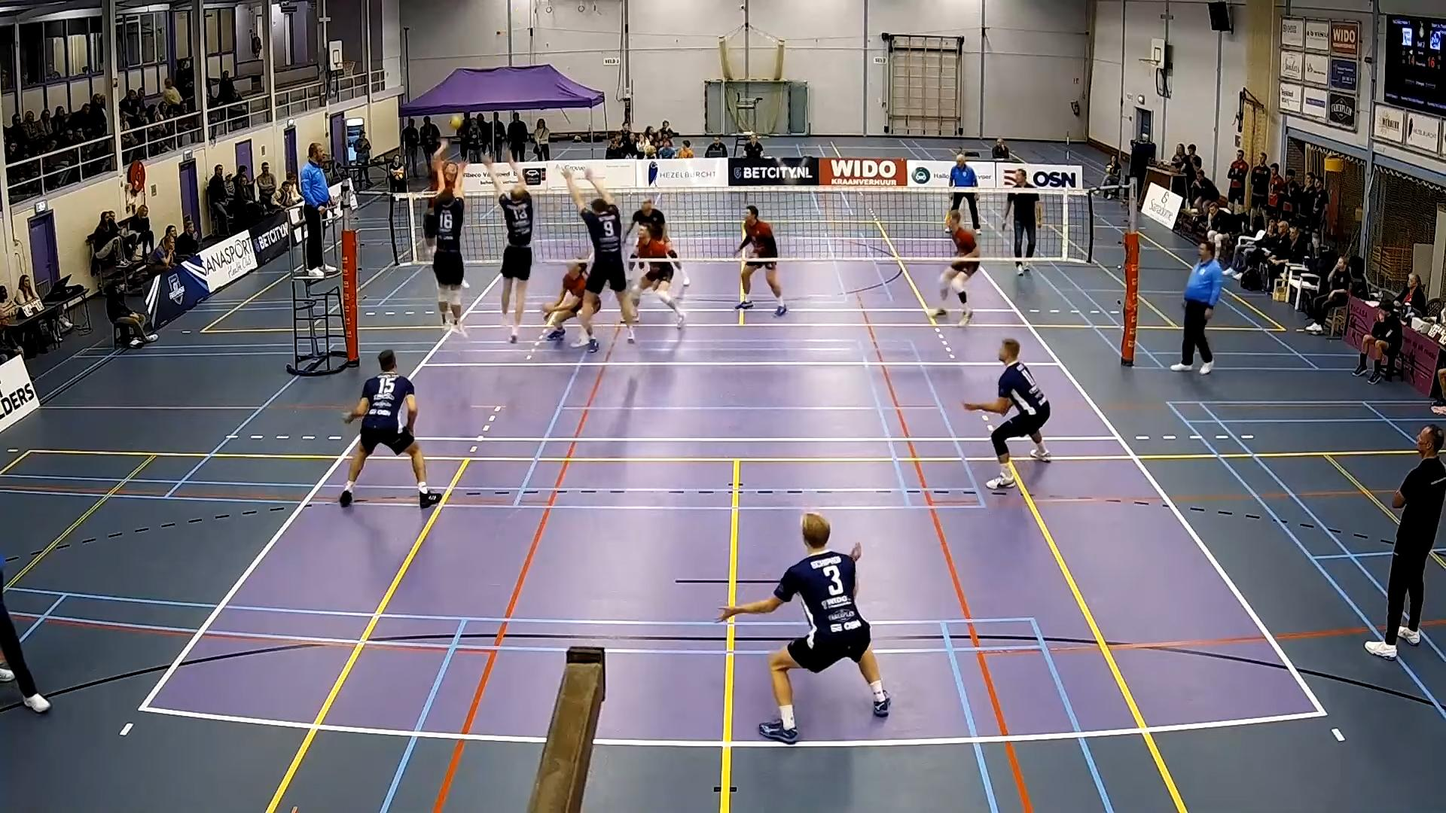Attack: (420, 127, 463, 253)
Block: (555, 162, 633, 339), (485, 159, 541, 340), (418, 156, 469, 342)
Player: (719, 513, 889, 743), (340, 350, 441, 508), (963, 338, 1051, 489), (735, 205, 786, 316), (632, 224, 685, 328), (939, 209, 979, 326), (542, 260, 587, 340), (627, 198, 665, 239)
ball: (447, 113, 463, 131)
